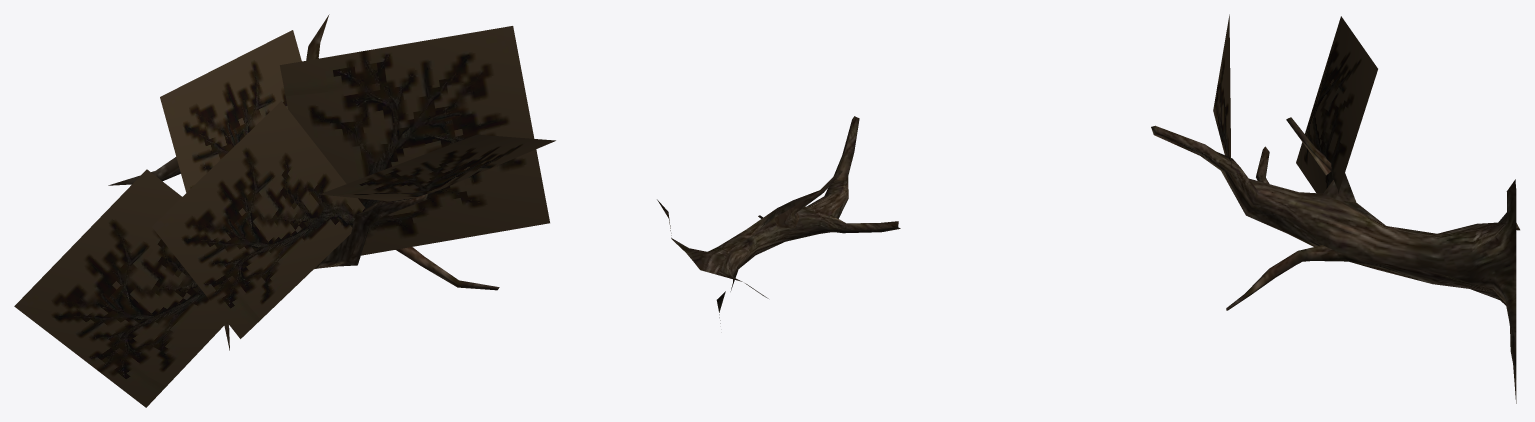
The picture shows the model from 3 angles, left to right: view 1: azimuth 30°, elevation 25°; view 2: azimuth 150°, elevation 25°; view 3: azimuth 270°, elevation 25°; orthographic projection. The views are drawn at different scales.
Parts seen in each view (by area): view 1: model_Object97; view 2: model_Object97; view 3: model_Object97.
Boxes of the visible parts, x1,y1,x2,y2 form: model_Object97: (14, 14, 555, 407); model_Object97: (657, 116, 900, 323); model_Object97: (1151, 14, 1519, 403).
Bounding box in the file's own units: 4.43 × 3.46 × 4.07.
Materials: 2 (2 with a texture image).
